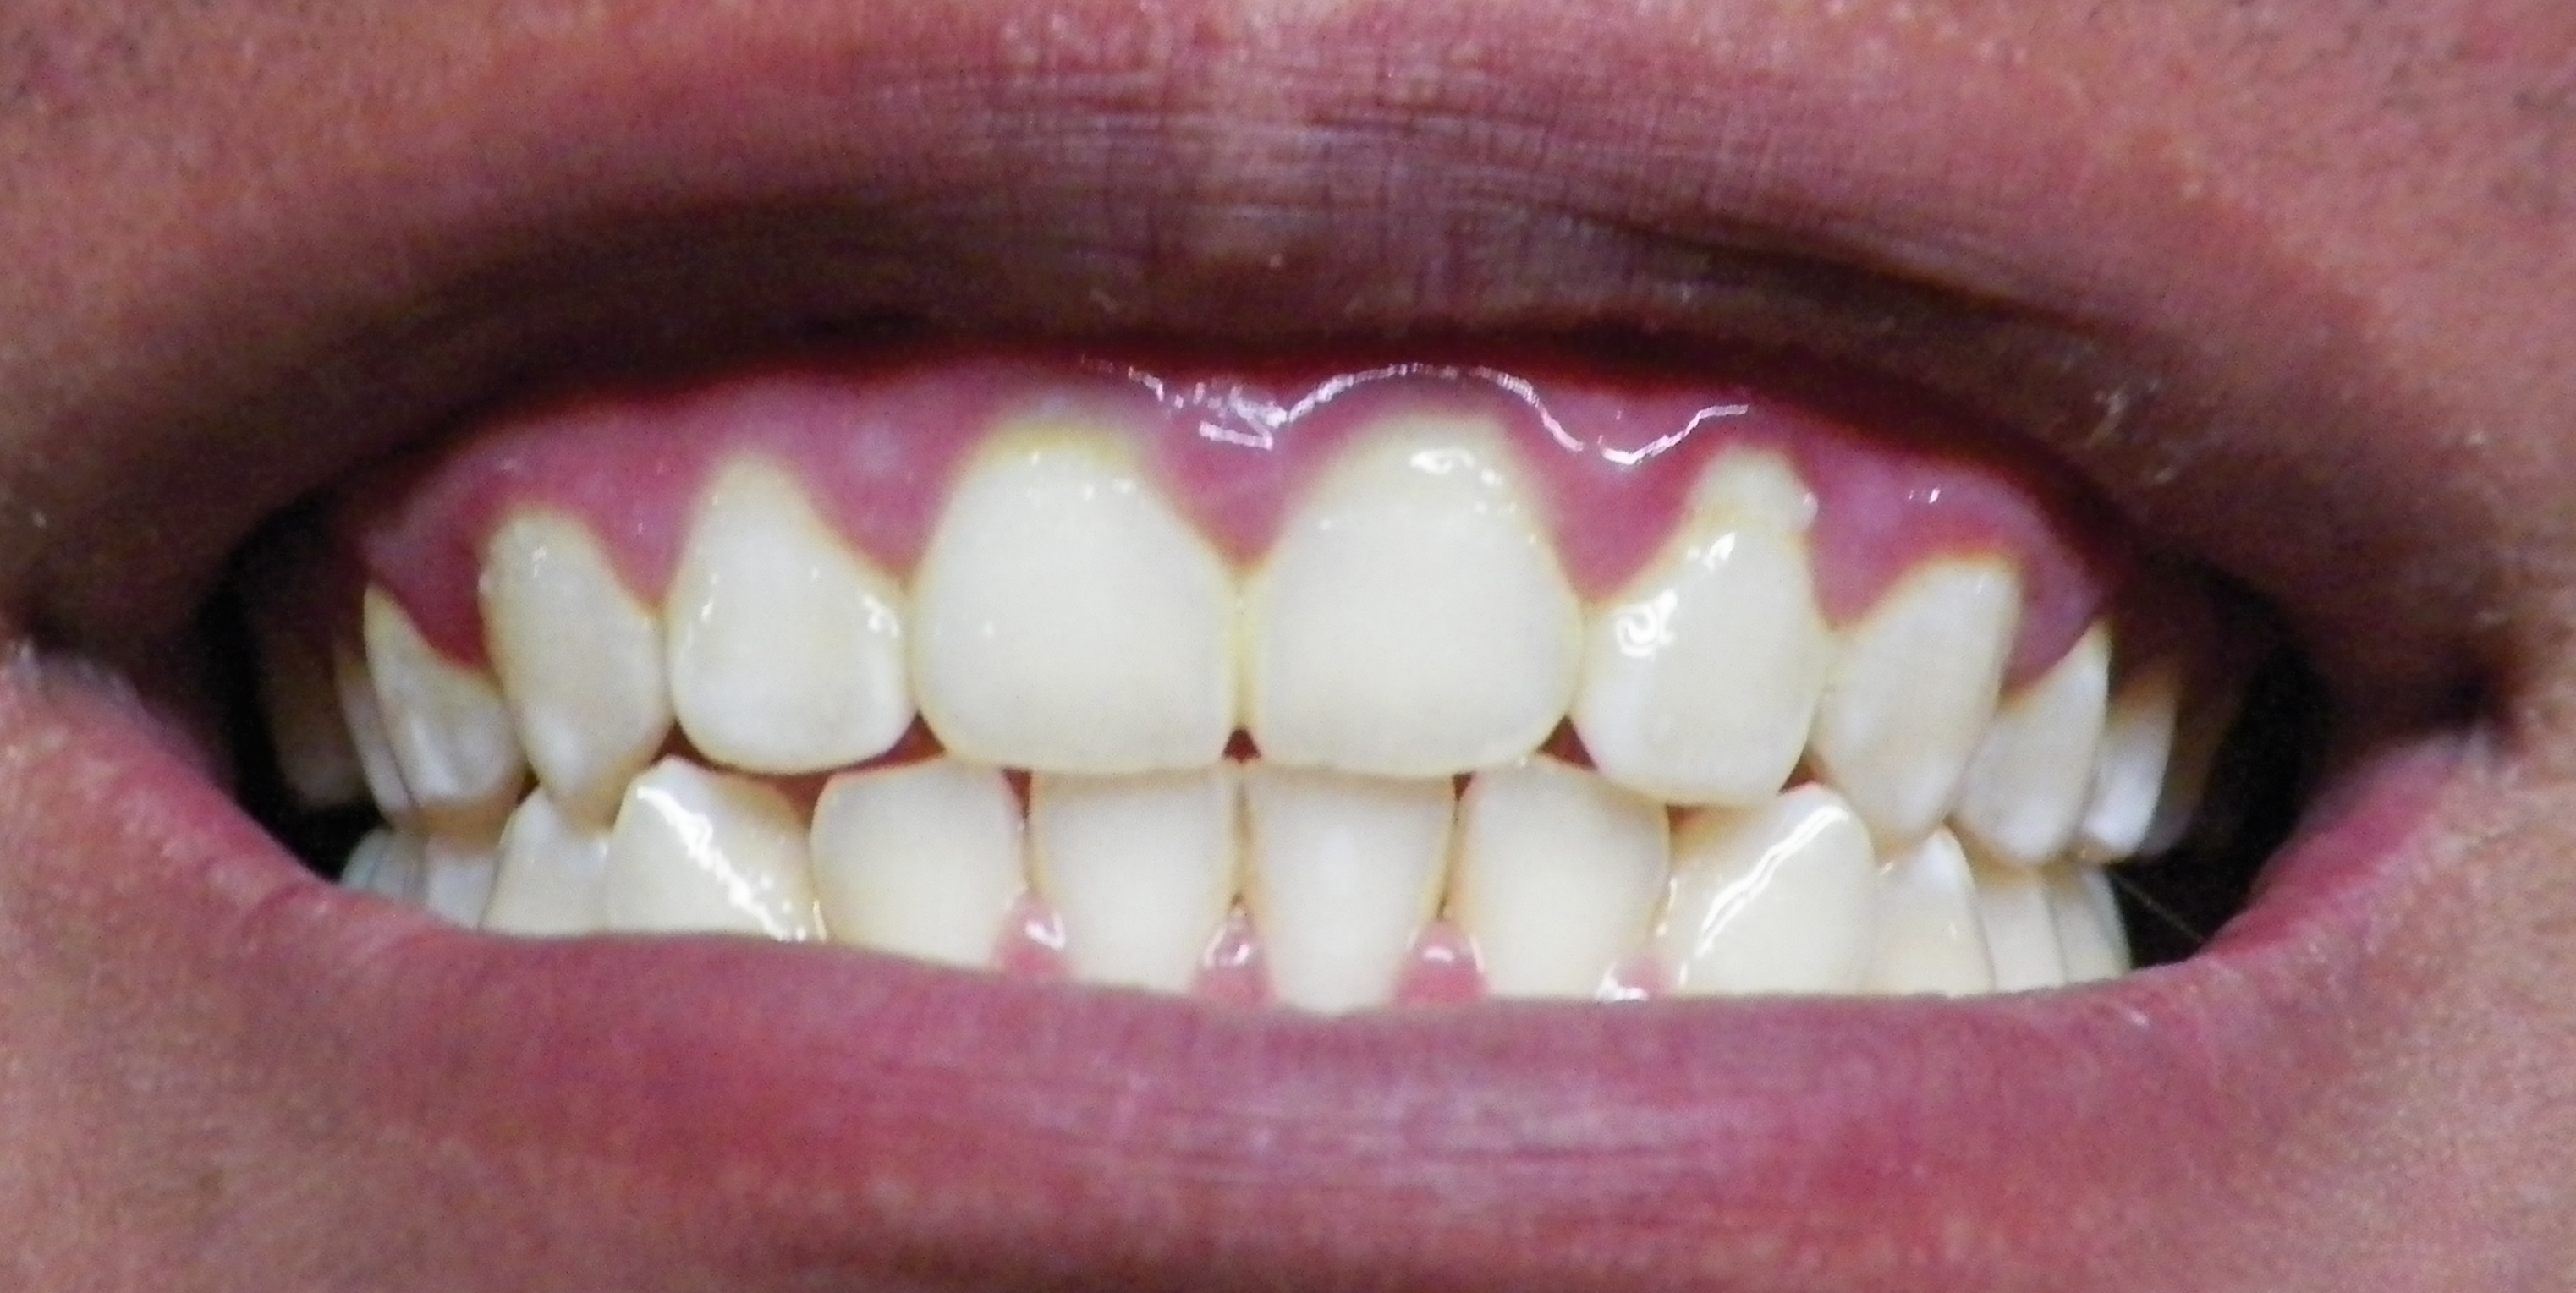boca: (282, 412, 2231, 1008)
